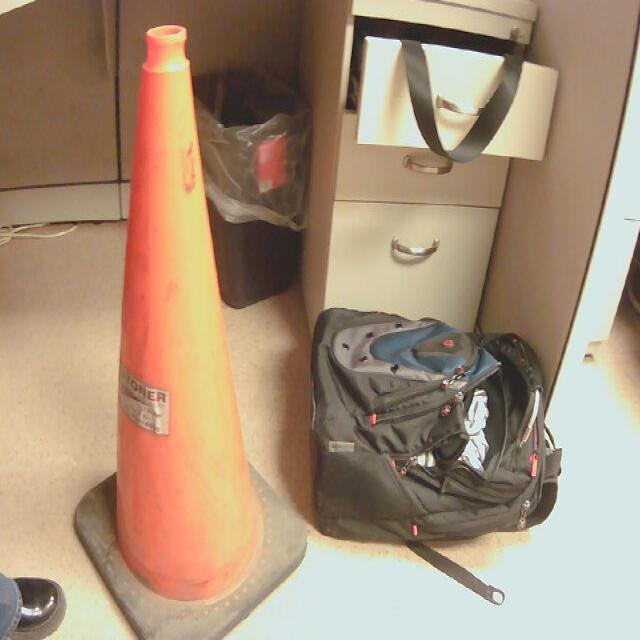traffic cone: (80, 26, 308, 640)
